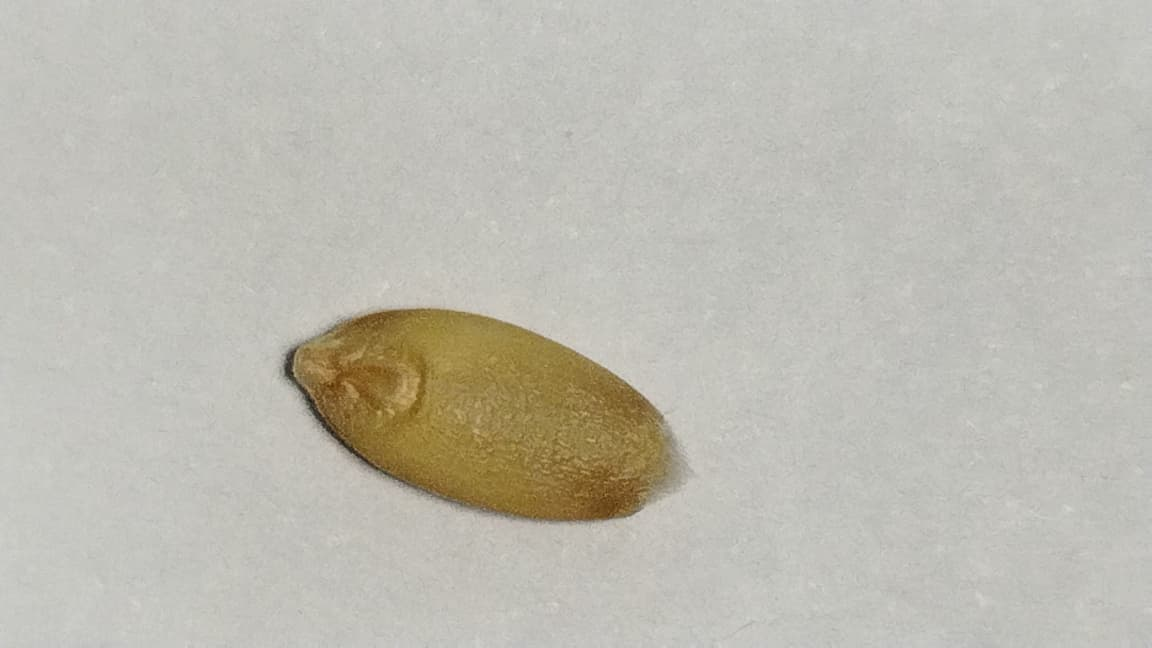healthy: (292, 309, 678, 519)
